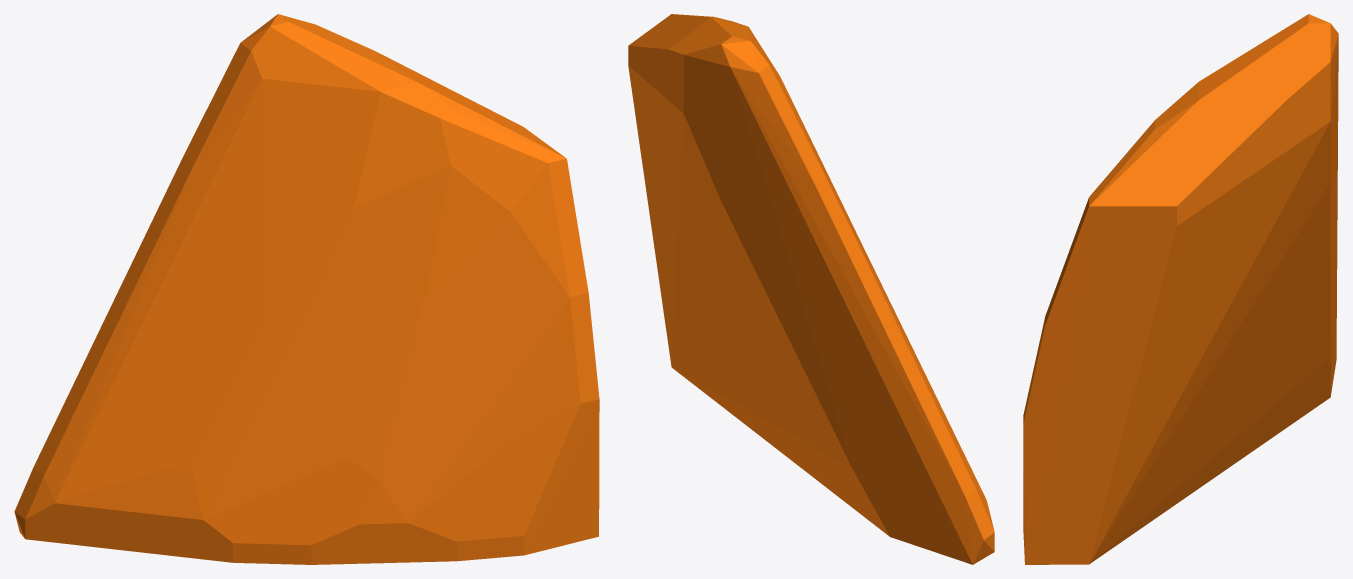
The model's file is mouth_cup031.obj.
The picture shows the model from 3 angles, left to right: view 1: azimuth 30°, elevation 25°; view 2: azimuth 150°, elevation 25°; view 3: azimuth 270°, elevation 25°; orthographic projection.
Parts seen in each view (by area): view 1: mouth_cup031; view 2: mouth_cup031; view 3: mouth_cup031.
Boxes of the visible parts, x1=… form: mouth_cup031: x1=14, y1=14, x2=599, y2=564; mouth_cup031: x1=628, y1=14, x2=994, y2=564; mouth_cup031: x1=1023, y1=14, x2=1338, y2=564.
Size of the model in its own units: 0.1379 by 0.1393 by 0.0861.
